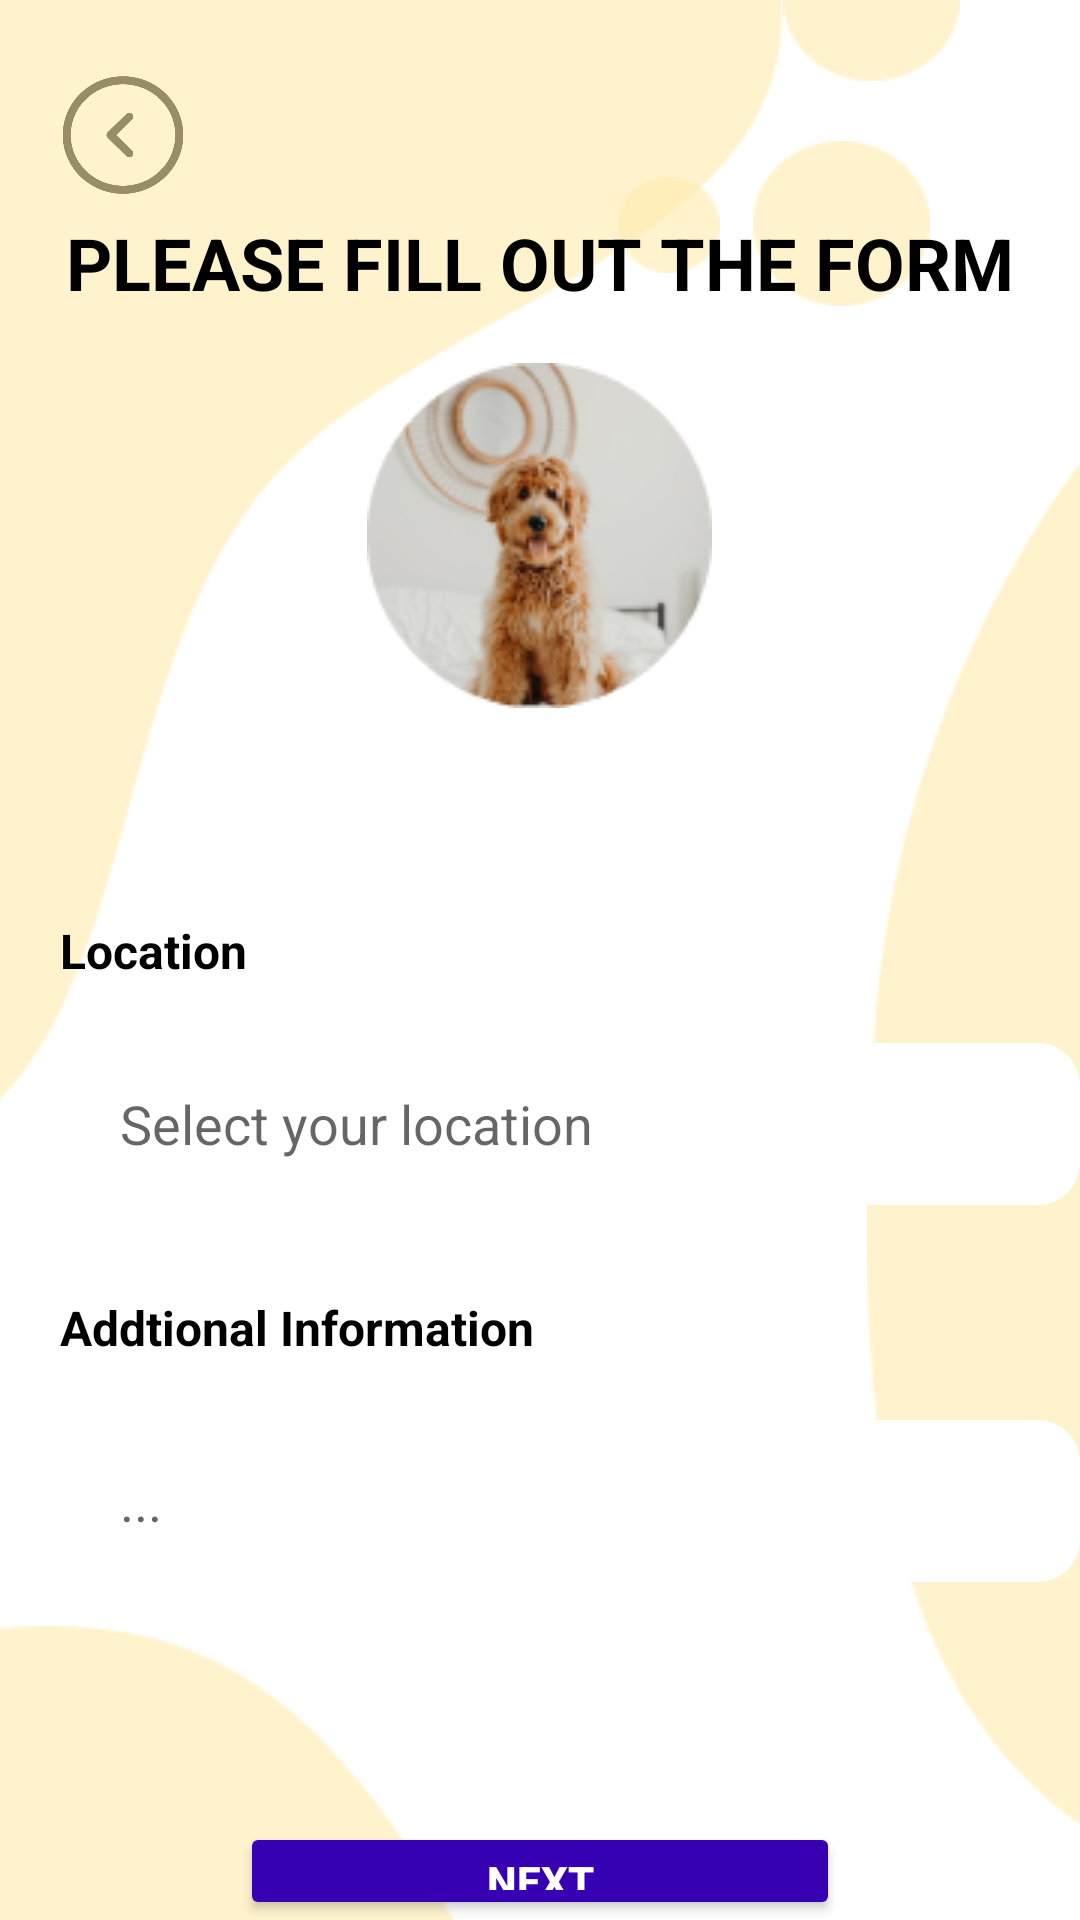

Named icons in this screenshot (1080w x 1920h) and their centers, [x,y]:
assetdog: [539,535]
back: [123,135]
